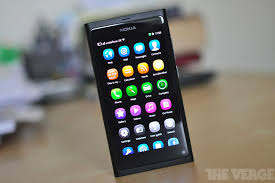nokia: (83, 12, 197, 178)
